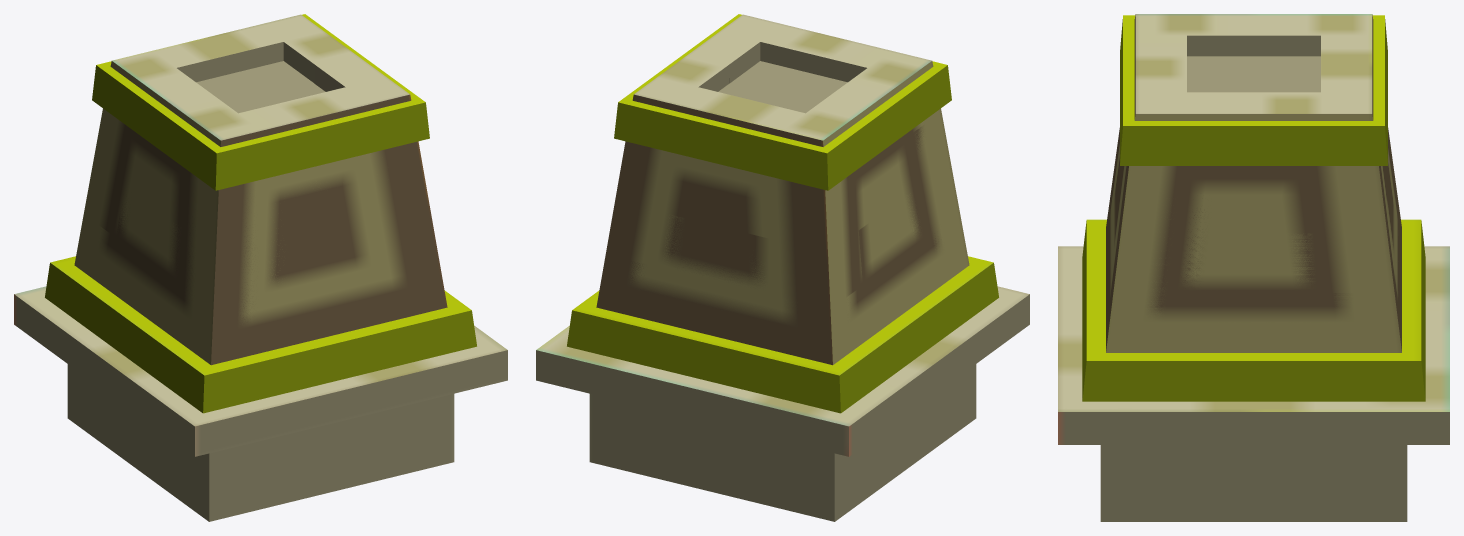
The model's file is tile_hidden_portal.fbx.
3 views of the same model, side by side, from view 1: azimuth 30°, elevation 25°; view 2: azimuth 150°, elevation 25°; view 3: azimuth 270°, elevation 25° (orthographic). The views are drawn at different scales.
Visible parts, largest first — view 1: tile_hidden_portal_a, tile_hidden_portal_b, tile_hidden_portal_a2; view 2: tile_hidden_portal_a, tile_hidden_portal_b, tile_hidden_portal_a2; view 3: tile_hidden_portal_a, tile_hidden_portal_b, tile_hidden_portal_a2.
Boxes of the visible parts, x1,y1,x2,y2 form: tile_hidden_portal_a: (45,14,473,413); tile_hidden_portal_b: (14,286,507,521); tile_hidden_portal_a2: (52,54,476,411); tile_hidden_portal_a: (567,14,998,413); tile_hidden_portal_b: (536,286,1029,521); tile_hidden_portal_a2: (569,26,993,407); tile_hidden_portal_a: (1082,14,1425,401); tile_hidden_portal_b: (1058,246,1449,521); tile_hidden_portal_a2: (1082,64,1425,354).
Size of the model in its own units: 50 by 55.34 by 50.
Materials: 1 (1 with a texture image).
